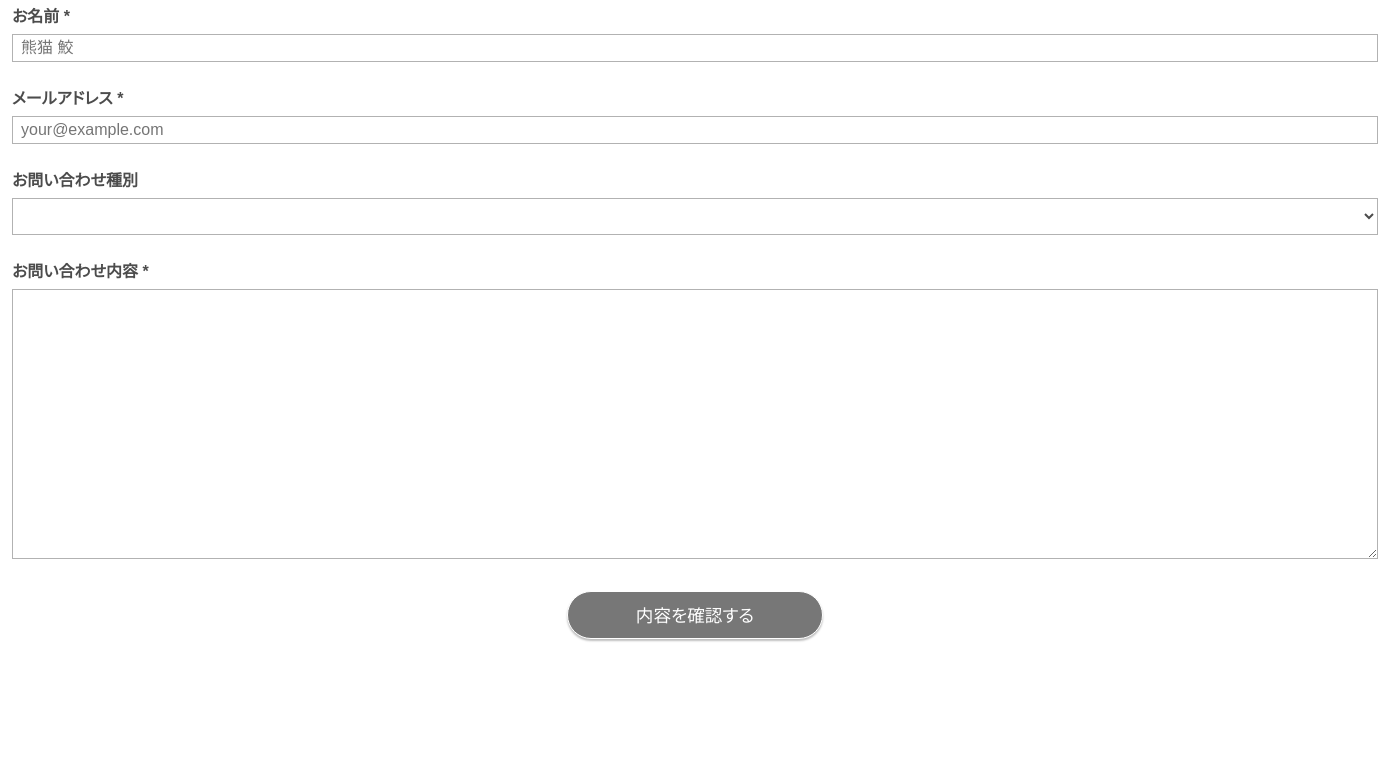
ContactFormContainer › user interaction › should not display error when value is valid
The image size is (1390, 768).
Type "name" into the field labelled "お名前 *" at (695, 48), box [12,34,1378,62]
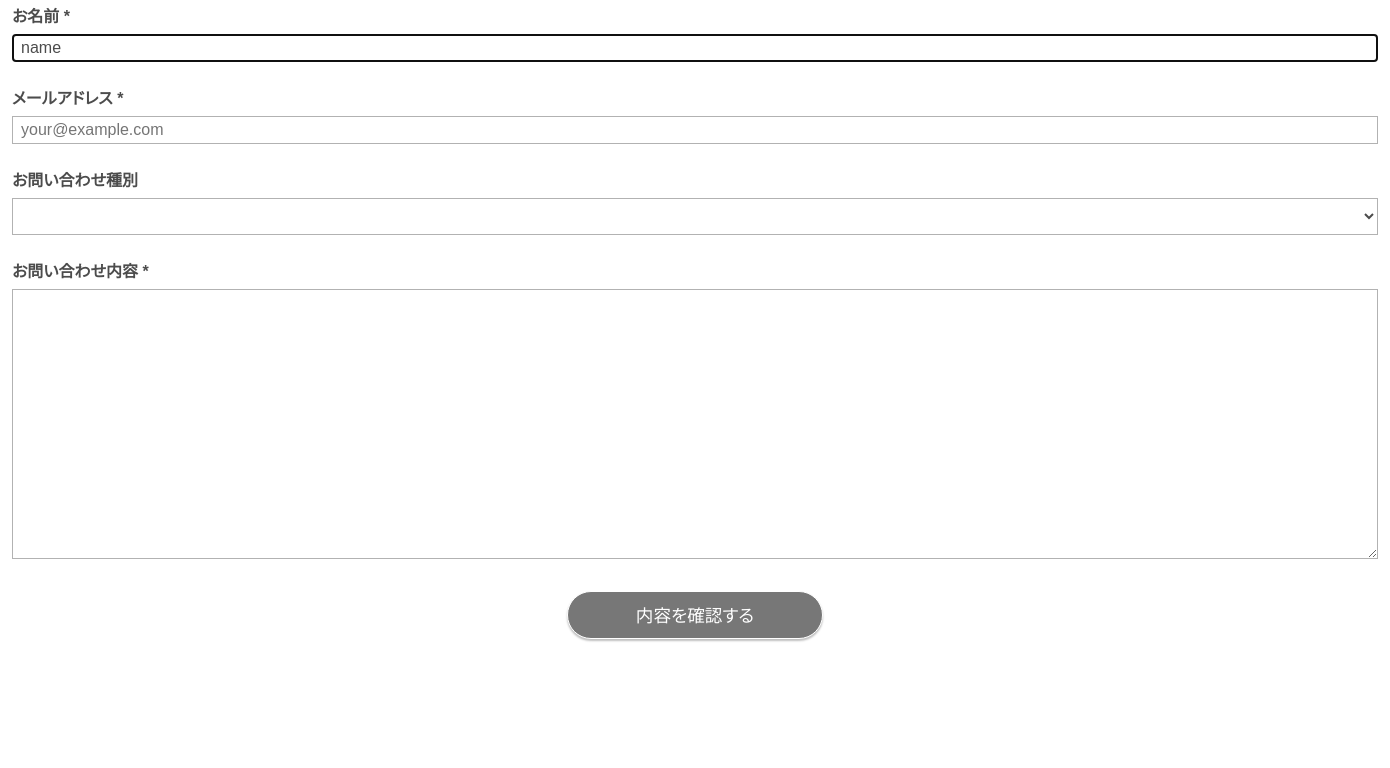
Type "email@test.com" into the field labelled "メールアドレス *" at (695, 130), box [12,116,1378,144]
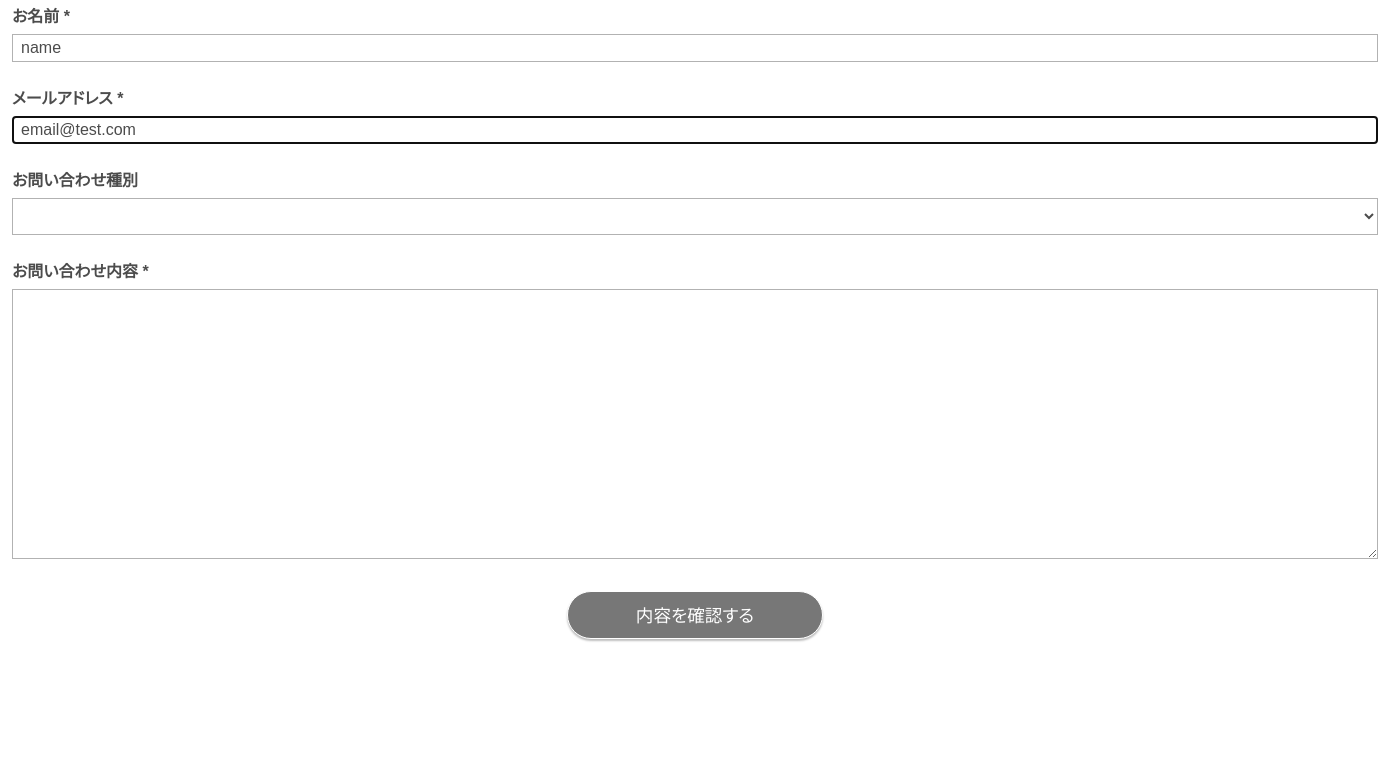
Type "description" into the text box labelled "お問い合わせ内容 *" at (695, 424), box [12,289,1378,559]
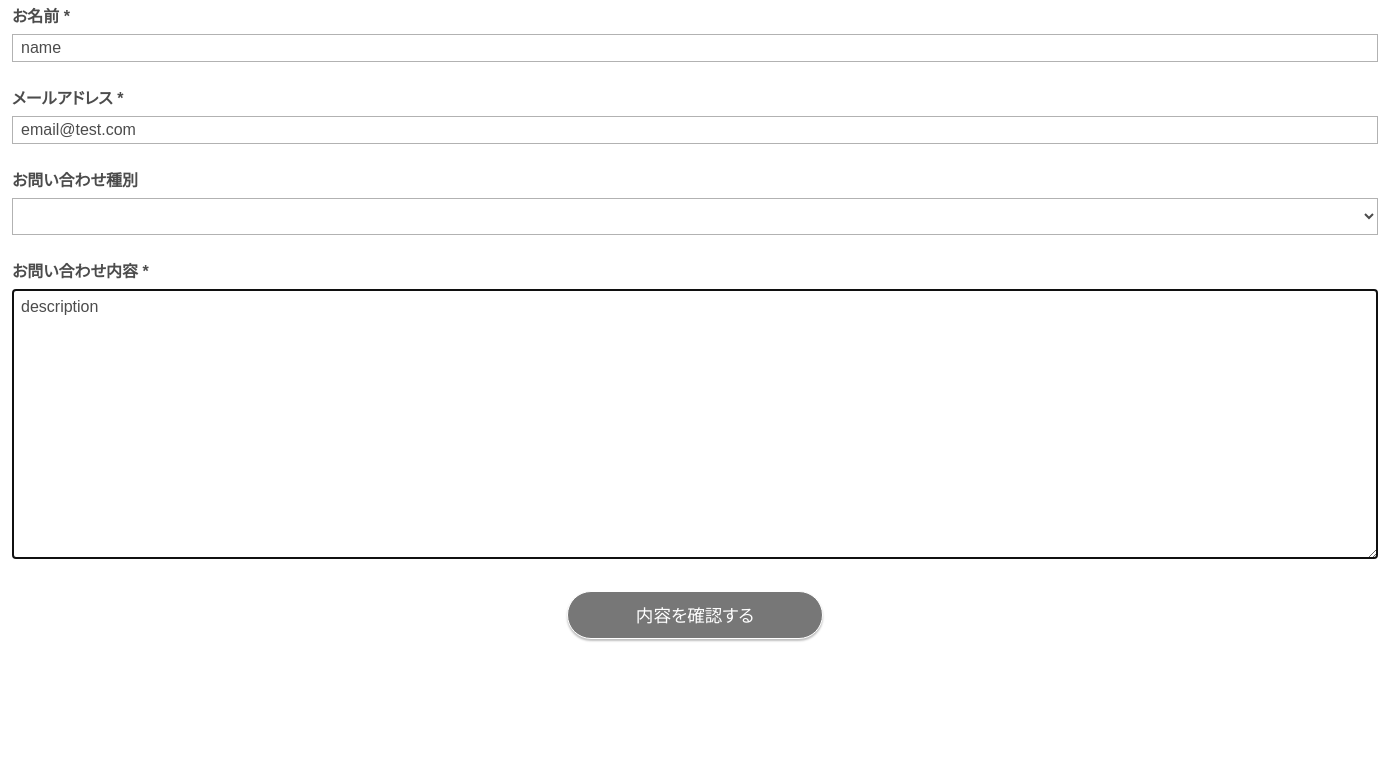
Leave the text box labelled "お問い合わせ内容 *", box [12,289,1378,559]
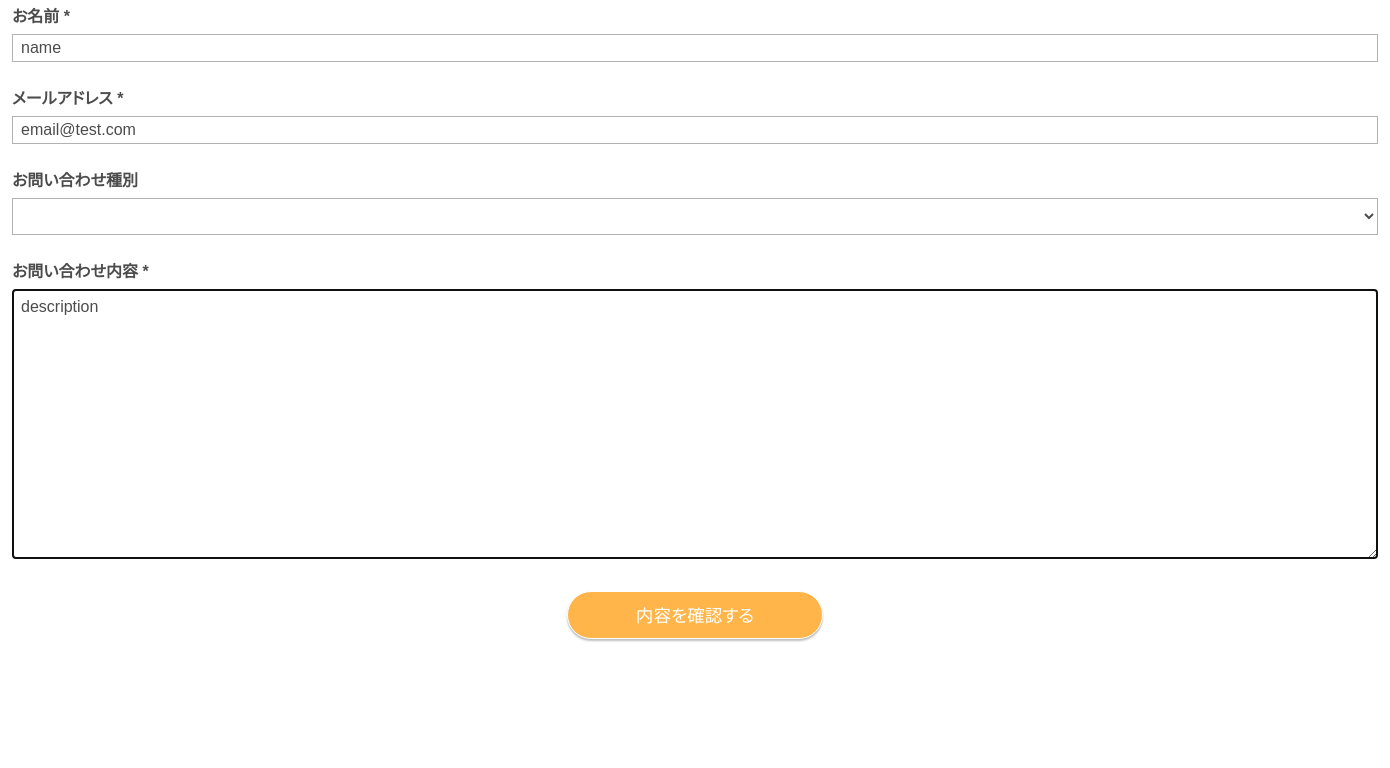
Check: the button is enabled, box [567,591,823,639]
